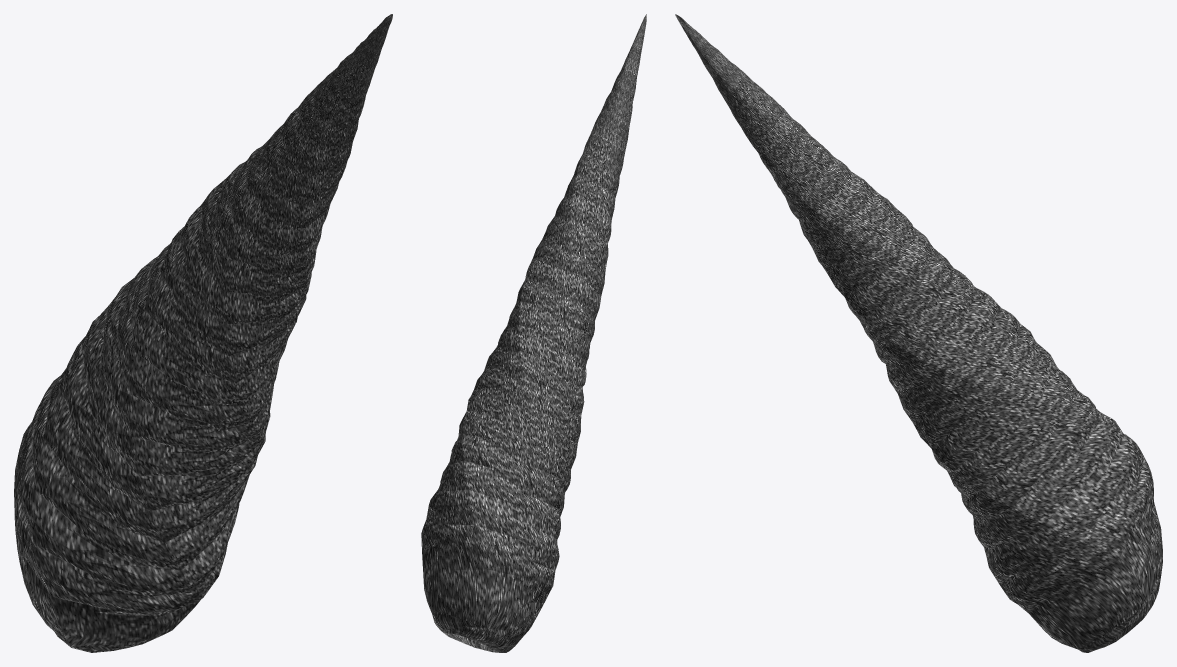
The model's file is mhw_elvs_unicorn_horn_1.glb.
3 renders of one model, left to right at view 1: azimuth 30°, elevation 25°; view 2: azimuth 150°, elevation 25°; view 3: azimuth 270°, elevation 25°, orthographic. The views are drawn at different scales.
Parts seen in each view (by area): view 1: mhw_elvs_unicorn_horn_1; view 2: mhw_elvs_unicorn_horn_1; view 3: mhw_elvs_unicorn_horn_1.
Boxes of the visible parts, x1,y1,x2,y2 form: mhw_elvs_unicorn_horn_1: [14, 14, 392, 652]; mhw_elvs_unicorn_horn_1: [421, 14, 646, 652]; mhw_elvs_unicorn_horn_1: [675, 14, 1162, 652].
Bounding box in the file's own units: 0.0507 × 0.1977 × 0.1381.
Materials: 1 (1 with a texture image).
